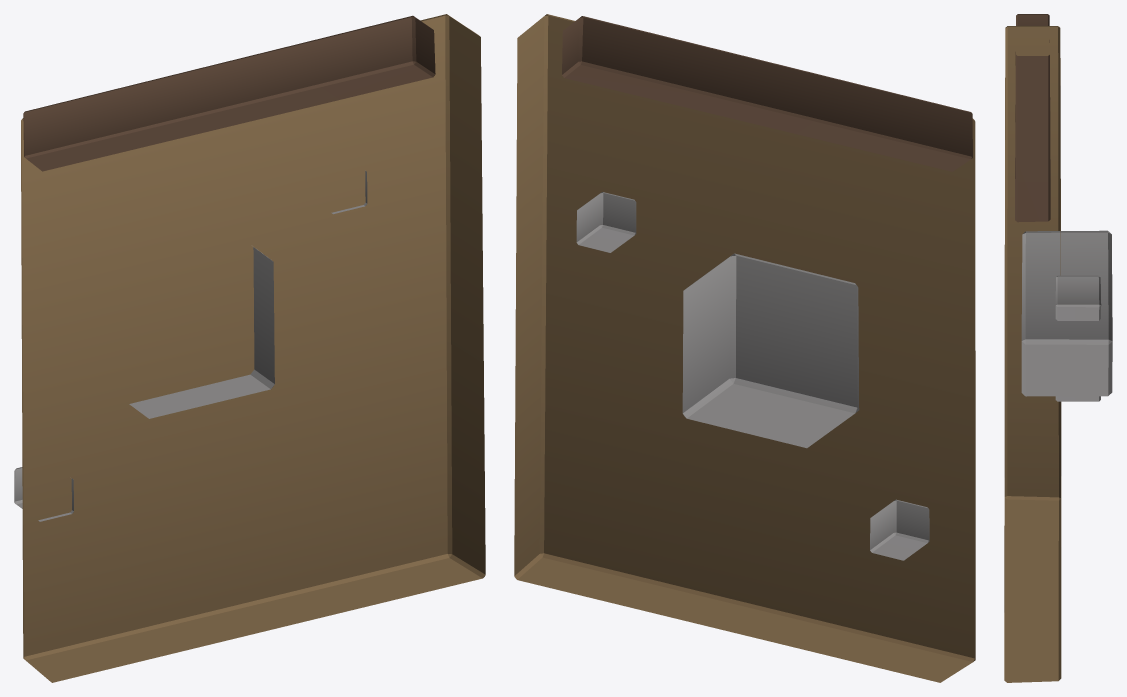
The model's file is shield.glb.
3 views of the same model, side by side, from view 1: azimuth 30°, elevation 25°; view 2: azimuth 150°, elevation 25°; view 3: azimuth 270°, elevation 25° (orthographic). The views are drawn at different scales.
Visible parts, largest first — view 1: Plate, RimTop, Boss; view 2: Plate, Boss, RimTop, RivetA, RivetB; view 3: Plate, Boss, RimTop, RivetA, RivetB.
Part boxes in pixels (box(x1,y1,x2,y2)): Plate: box(21, 14, 485, 682); RimTop: box(23, 15, 435, 171); Boss: box(129, 247, 274, 418); Plate: box(514, 14, 975, 682); Boss: box(682, 253, 859, 448); RimTop: box(562, 16, 972, 171); RivetA: box(576, 192, 636, 252); RivetB: box(870, 499, 929, 560); Plate: box(1004, 26, 1061, 682); Boss: box(1021, 230, 1112, 396); RimTop: box(1015, 14, 1050, 222); RivetA: box(1055, 275, 1101, 320); RivetB: box(1055, 396, 1100, 401).
Size of the model in its own units: 0.3893 by 0.4718 by 0.0955.
